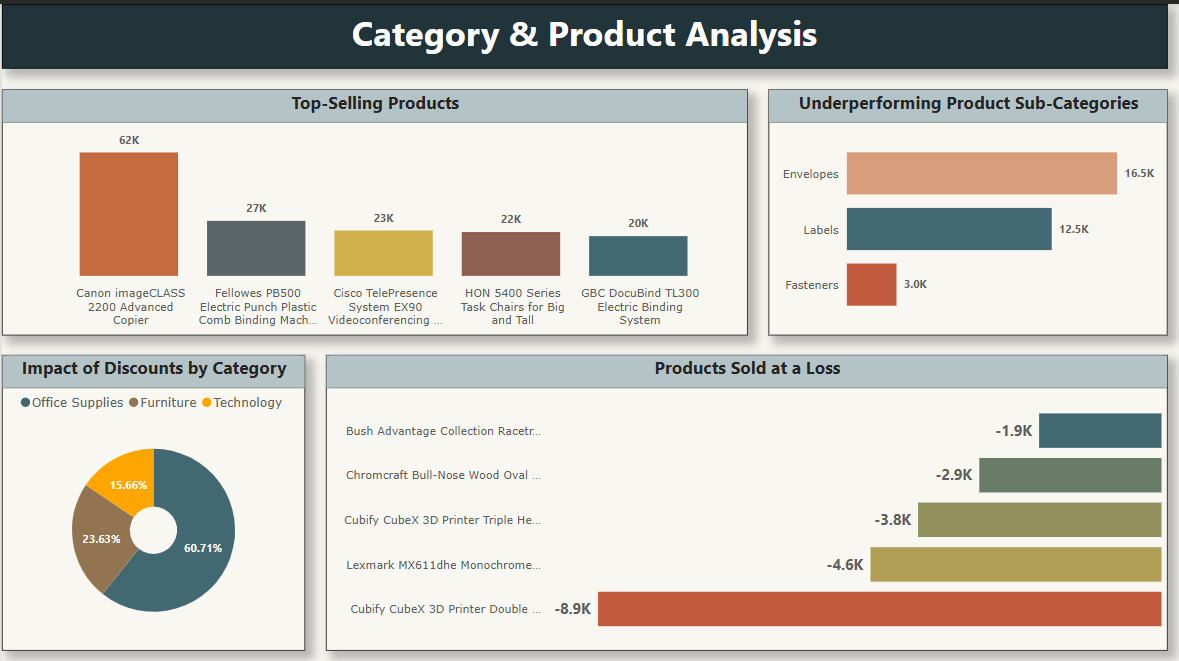

What the dashboard file says about the page in this screenshot:
{"tool":"powerbi","page":{"name":"Category & Product Analysis","canvas":[1280,720],"ordinal":4},"visuals":[{"type":"textbox","box":[0,0,1263.8,69.9],"z":0},{"type":"clusteredColumnChart","title":"Top-Selling Products","fields":{"Category":["Orders.Product Name"],"Y":["Sum(Orders.Sales)"]},"box":[0,92.7,808.4,266.8],"z":1000},{"type":"clusteredBarChart","title":"Underperforming Product Sub-Categories","fields":{"Category":["Orders.Sub-Category"],"Y":["Sum(Orders.Sales)"]},"box":[831.2,92.7,432.7,266.8],"z":2000},{"type":"clusteredBarChart","title":"Products Sold at a Loss","fields":{"Y":["Sum(Orders.Profit)"],"Category":["Orders.Product Name"]},"box":[351.3,380.6,912.5,320.4],"z":3000},{"type":"pieChart","title":"Impact of Discounts by Category","fields":{"Category":["Orders.Category"],"Y":["Sum(Orders.Discount)"]},"box":[0,380.6,328.6,320.4],"z":4000}]}

Visuals, with their boxes in screenshot pixels (x1, y1, x2, y2), scaled from the page's 1280x720 canvas onto the 1179x661 screenshot:
textbox: bbox=(0, 0, 1164, 64)
"Top-Selling Products" clusteredColumnChart: bbox=(0, 85, 745, 330)
"Underperforming Product Sub-Categories" clusteredBarChart: bbox=(766, 85, 1164, 330)
"Products Sold at a Loss" clusteredBarChart: bbox=(324, 349, 1164, 644)
"Impact of Discounts by Category" pieChart: bbox=(0, 349, 303, 644)
